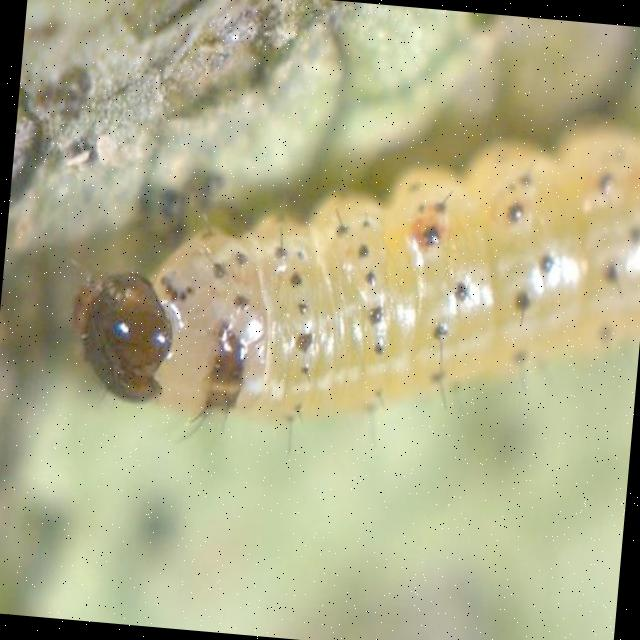worm: (58, 75, 640, 487), (63, 264, 183, 410)
